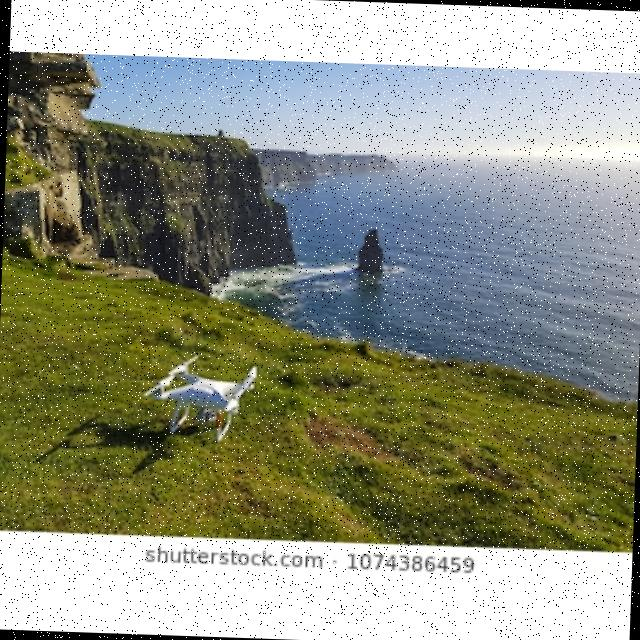Drones: (146, 348, 260, 450)
